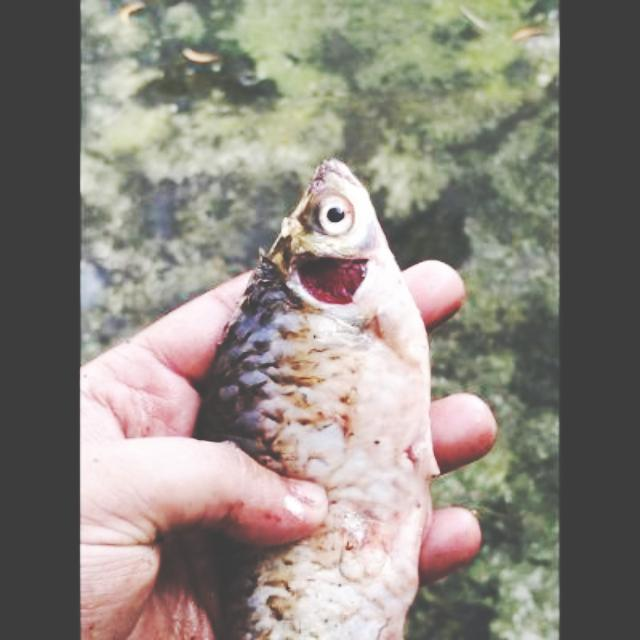Flavobacterium -Bacterial Gill Disease-: (199, 161, 439, 639)
